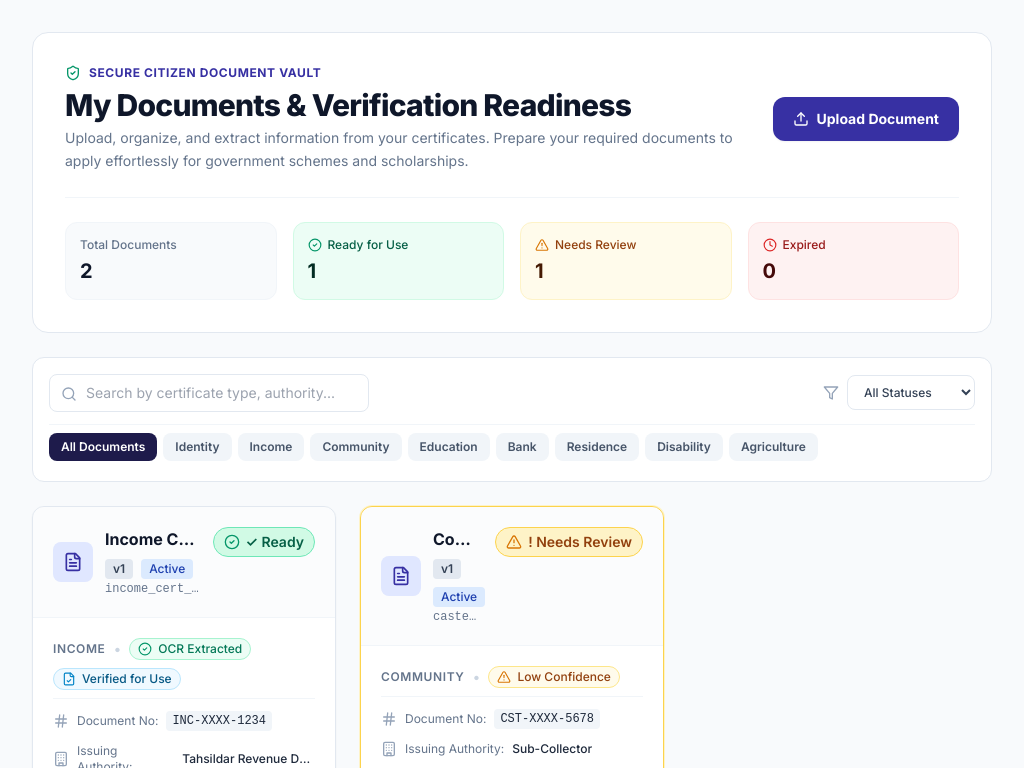
Test: DocumentsPage Component (Module 6) › opens upload modal when clicking "Upload Document"
Expected: the heading "Income Certificate" is shown, [105, 526, 201, 550]
Click the button "Upload Document".
click(866, 119)  # box [772, 97, 959, 141]
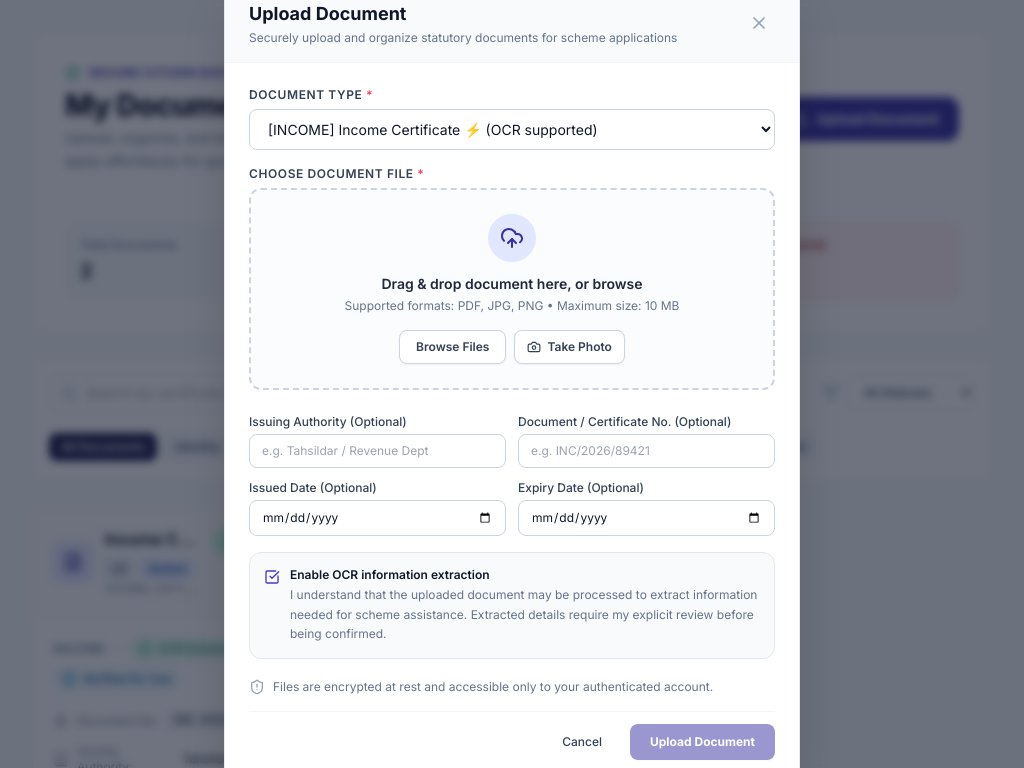
Now the dialog is shown
Now the text "Choose Document File" is shown, box [249, 166, 417, 181]
Now the text "Enable OCR information extraction" is shown, box [290, 567, 490, 582]
